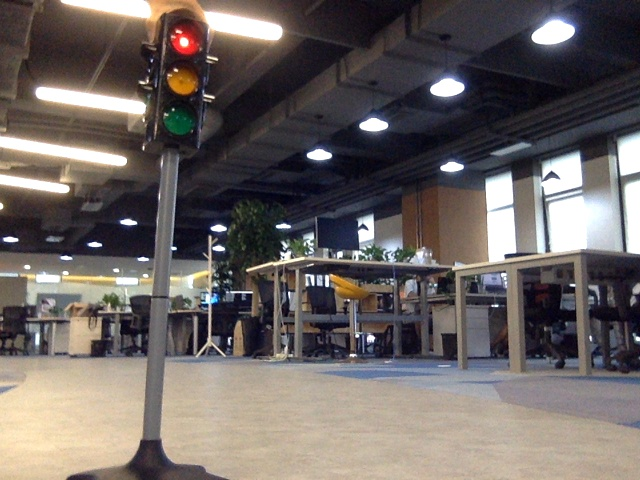red: (163, 21, 201, 139)
